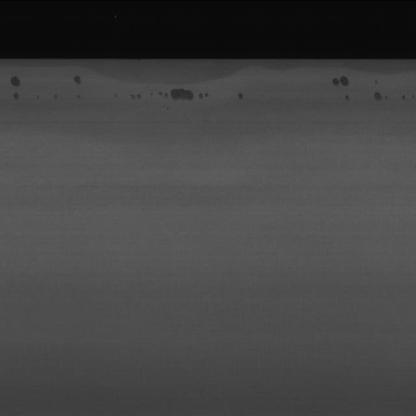oil_spot: (119, 86, 246, 102), (336, 89, 408, 103), (7, 90, 92, 101), (316, 74, 358, 90), (72, 71, 90, 85), (10, 74, 24, 87)
